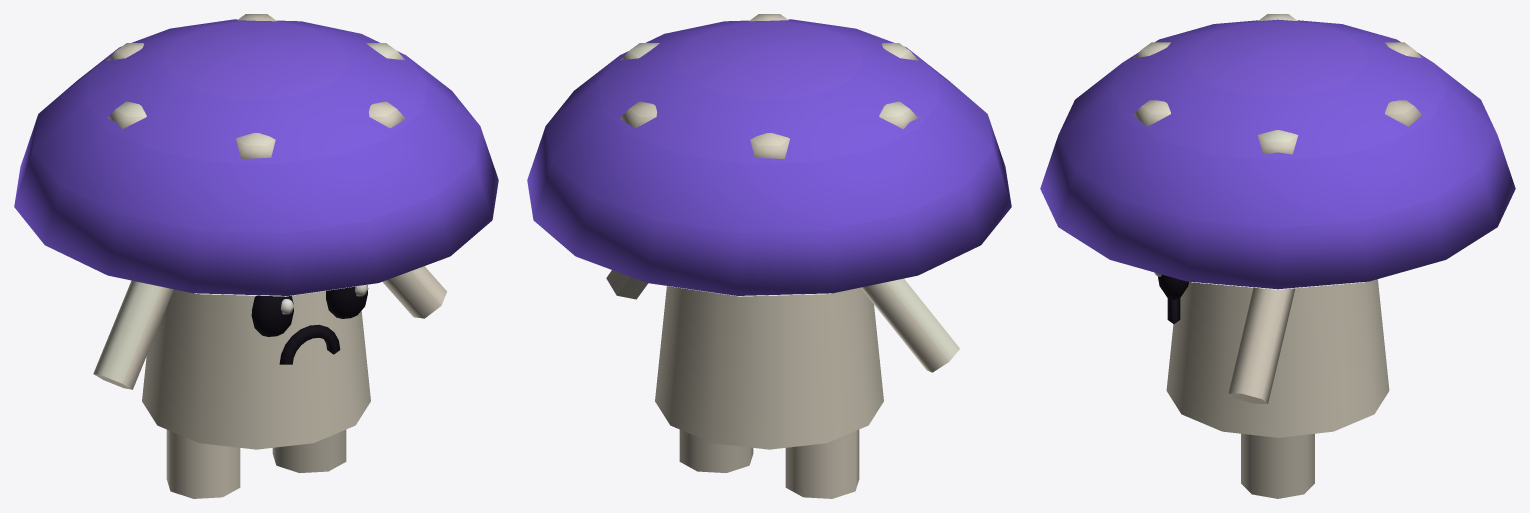
File: monster_shroomling.glb
3 views of the same model, side by side, from view 1: azimuth 30°, elevation 25°; view 2: azimuth 150°, elevation 25°; view 3: azimuth 270°, elevation 25° (orthographic). The views are drawn at different scales.
Visible parts, largest first — view 1: body_t0_palette, arml_t0_palette, legl_t0_palette, legr_t0_palette, armr_t0_palette; view 2: body_t0_palette, arml_t0_palette, legl_t0_palette, legr_t0_palette, armr_t0_palette; view 3: body_t0_palette, armr_t0_palette, legr_t0_palette.
Boxes of the visible parts, bbox=[...] form: body_t0_palette: bbox=[14, 14, 498, 449]; arml_t0_palette: bbox=[93, 280, 173, 389]; legl_t0_palette: bbox=[166, 429, 240, 498]; legr_t0_palette: bbox=[272, 429, 346, 472]; armr_t0_palette: bbox=[382, 266, 446, 318]; body_t0_palette: bbox=[527, 14, 1011, 449]; arml_t0_palette: bbox=[861, 278, 959, 372]; legl_t0_palette: bbox=[785, 429, 859, 498]; legr_t0_palette: bbox=[679, 429, 753, 472]; armr_t0_palette: bbox=[606, 270, 647, 299]; body_t0_palette: bbox=[1040, 14, 1515, 437]; armr_t0_palette: bbox=[1228, 287, 1295, 404]; legr_t0_palette: bbox=[1241, 433, 1314, 498].
Bounding box in the file's own units: 0.32 × 0.304 × 0.32.
